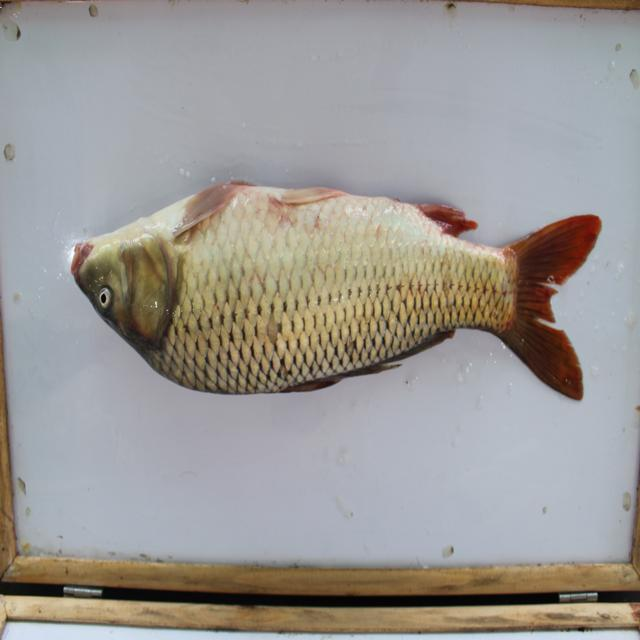CommonCarp: (53, 181, 595, 426)
